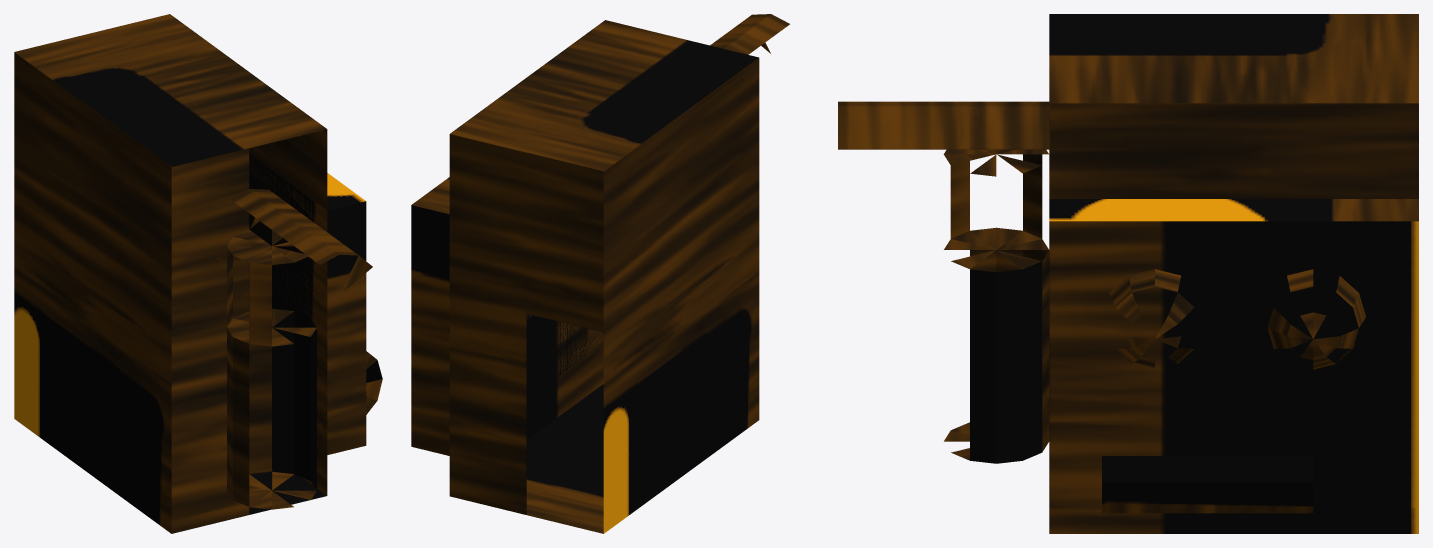
File: OldTelephone.obj
The picture shows the model from 3 angles, left to right: view 1: azimuth 30°, elevation 25°; view 2: azimuth 150°, elevation 25°; view 3: azimuth 270°, elevation 25°; orthographic projection. The views are drawn at different scales.
Visible parts, largest first — view 1: cube, cylinder; view 2: cube, cylinder; view 3: cube, cylinder, sphere.
Part boxes in pixels (x1,y1,x2,y2): cube: [14, 14, 366, 533]; cylinder: [216, 189, 382, 509]; cube: [411, 20, 759, 533]; cylinder: [710, 14, 789, 54]; cube: [1049, 14, 1418, 533]; cylinder: [838, 101, 1313, 513]; sphere: [1109, 269, 1365, 369].
Size of the model in its own units: 0.375 by 0.5625 by 0.6875.
